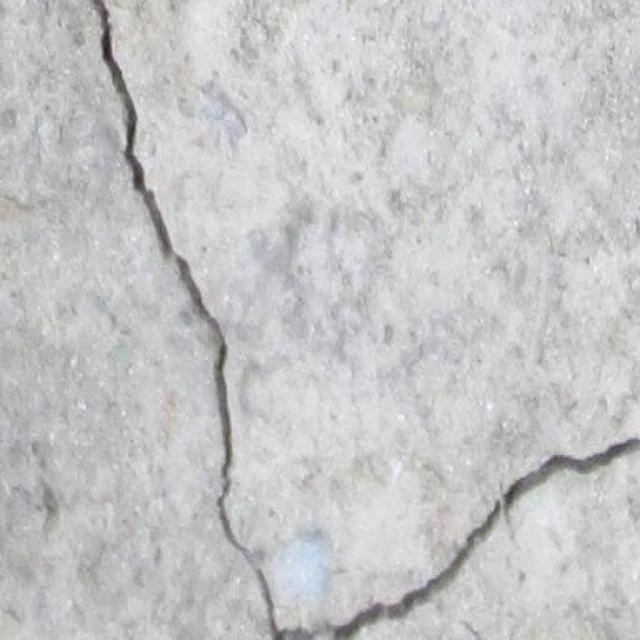crack: (84, 1, 639, 638)
